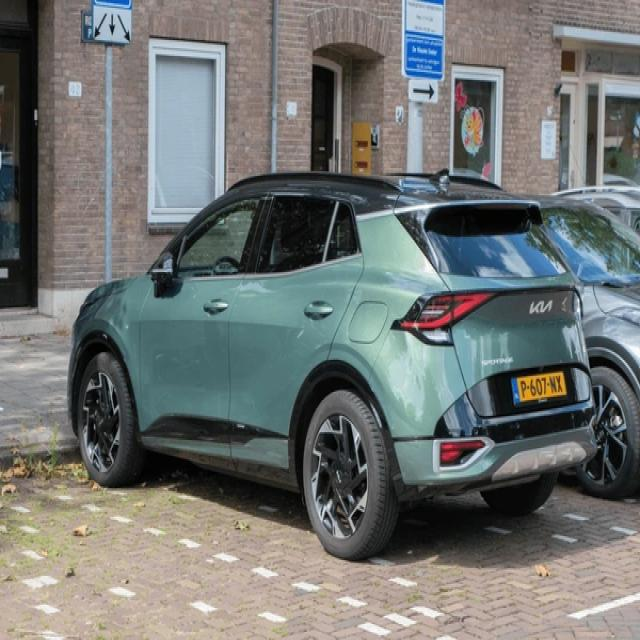kia: (528, 298, 555, 318)
